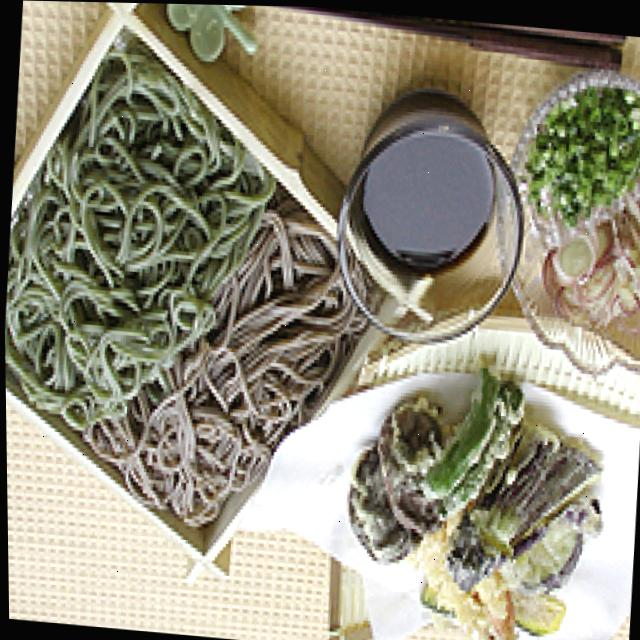面条主食: (0, 0, 435, 606)
